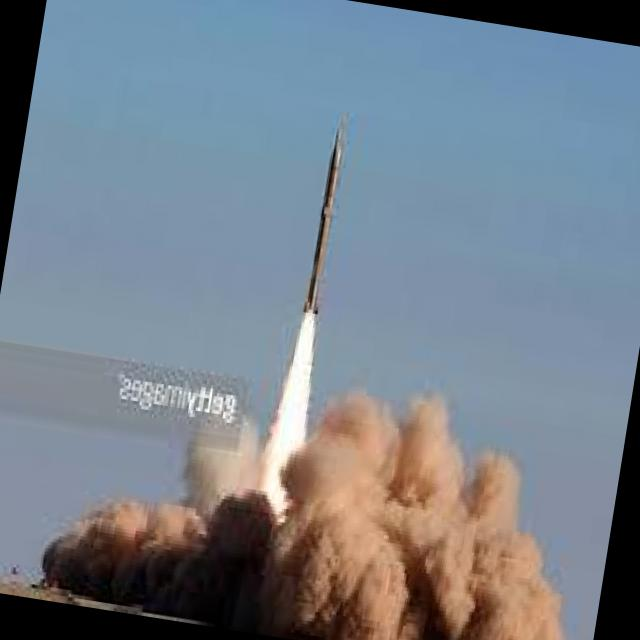rocket: (274, 123, 353, 439)
